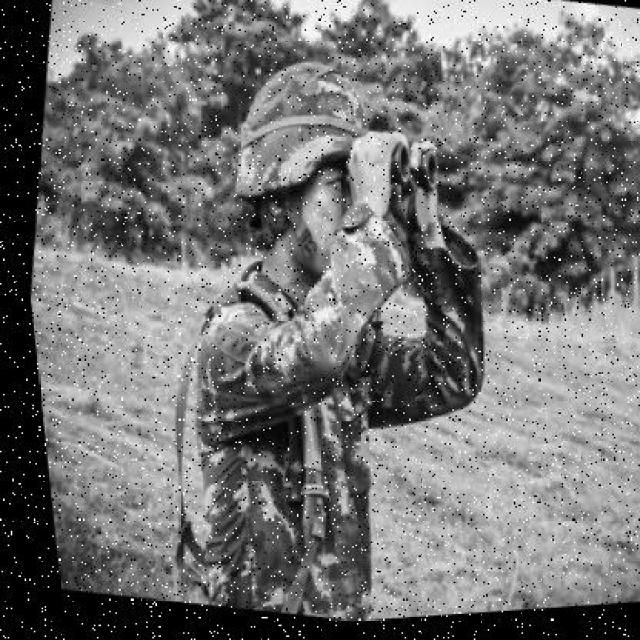MIL_Pax: (176, 70, 473, 625)
